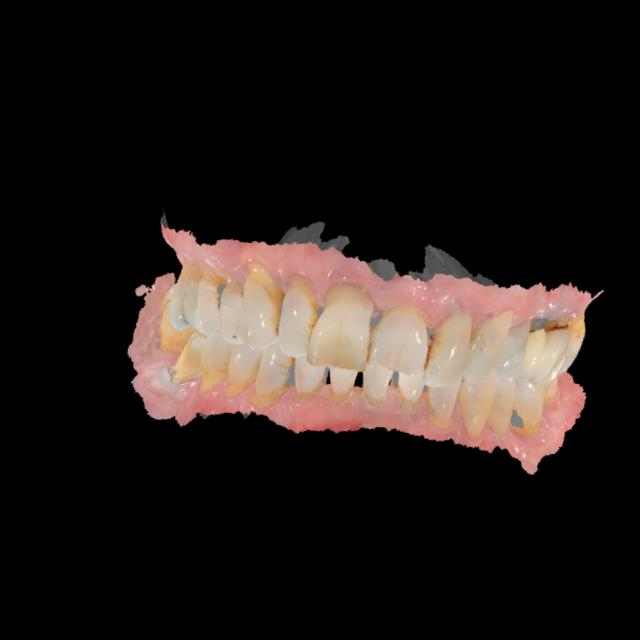tooth: (299, 272, 389, 383), (363, 292, 442, 388), (265, 269, 333, 371), (230, 254, 296, 356), (456, 298, 520, 398), (415, 298, 479, 394), (164, 248, 221, 339), (207, 265, 262, 353), (533, 305, 580, 398), (447, 370, 503, 446), (247, 342, 302, 415), (280, 344, 336, 415), (188, 262, 235, 344), (414, 367, 467, 435), (502, 368, 552, 440), (150, 279, 196, 357), (512, 306, 554, 390), (217, 333, 266, 405), (352, 348, 403, 415), (490, 311, 536, 385), (165, 324, 211, 393), (191, 328, 235, 399), (318, 355, 370, 415), (481, 366, 522, 441), (558, 306, 593, 384), (388, 361, 430, 417), (539, 369, 567, 409)
